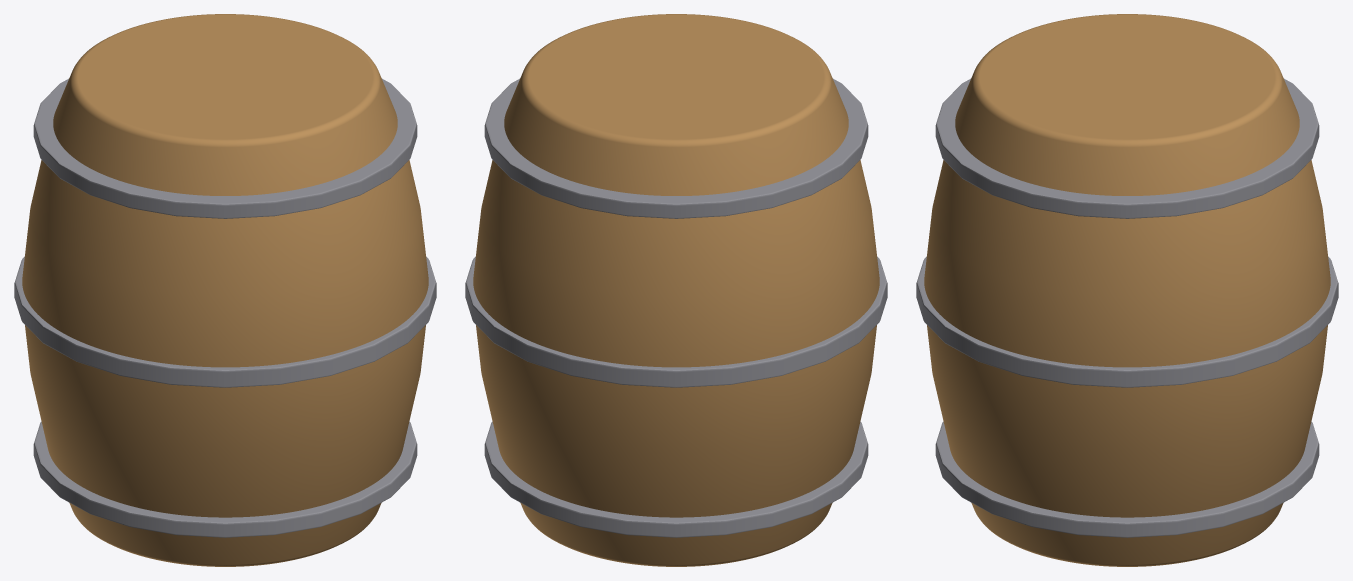
Rendered from prop_barrel.glb.
The picture shows the model from 3 angles, left to right: view 1: azimuth 30°, elevation 25°; view 2: azimuth 150°, elevation 25°; view 3: azimuth 270°, elevation 25°; orthographic projection.
Visible parts, largest first — view 1: BarrelBody, Hoop_2, Hoop_1, Hoop_0; view 2: BarrelBody, Hoop_2, Hoop_1, Hoop_0; view 3: BarrelBody, Hoop_2, Hoop_1, Hoop_0.
Part boxes in pixels (x1,y1,x2,y2): BarrelBody: (22, 14, 428, 566); Hoop_2: (33, 78, 417, 218); Hoop_1: (14, 257, 436, 387); Hoop_0: (33, 421, 417, 537); BarrelBody: (473, 14, 879, 566); Hoop_2: (484, 78, 868, 218); Hoop_1: (465, 257, 887, 387); Hoop_0: (484, 421, 868, 537); BarrelBody: (924, 14, 1330, 566); Hoop_2: (935, 78, 1319, 218); Hoop_1: (916, 257, 1338, 387); Hoop_0: (935, 421, 1319, 537).
Size of the model in its own units: 0.744 by 0.83 by 0.744.
